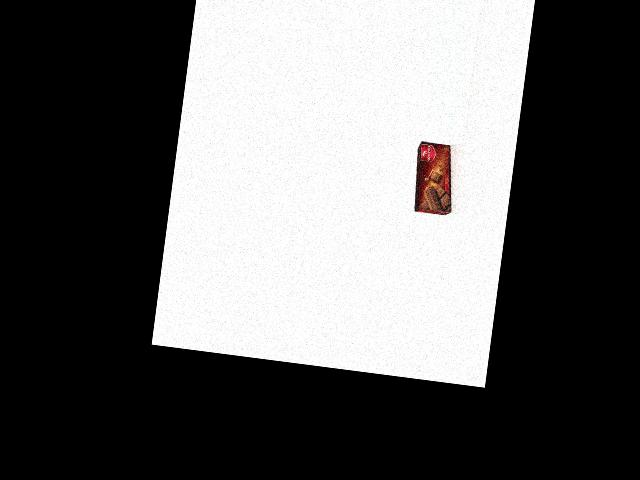chocolate: (409, 140, 460, 215)
